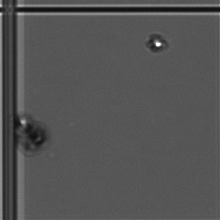Dead Cell: (16, 115, 56, 156)
Living Cell: (144, 28, 172, 56)
